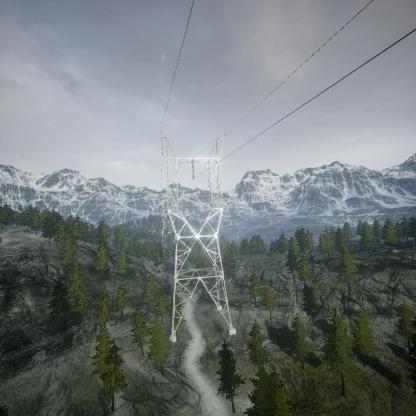tower: (155, 132, 237, 341)
